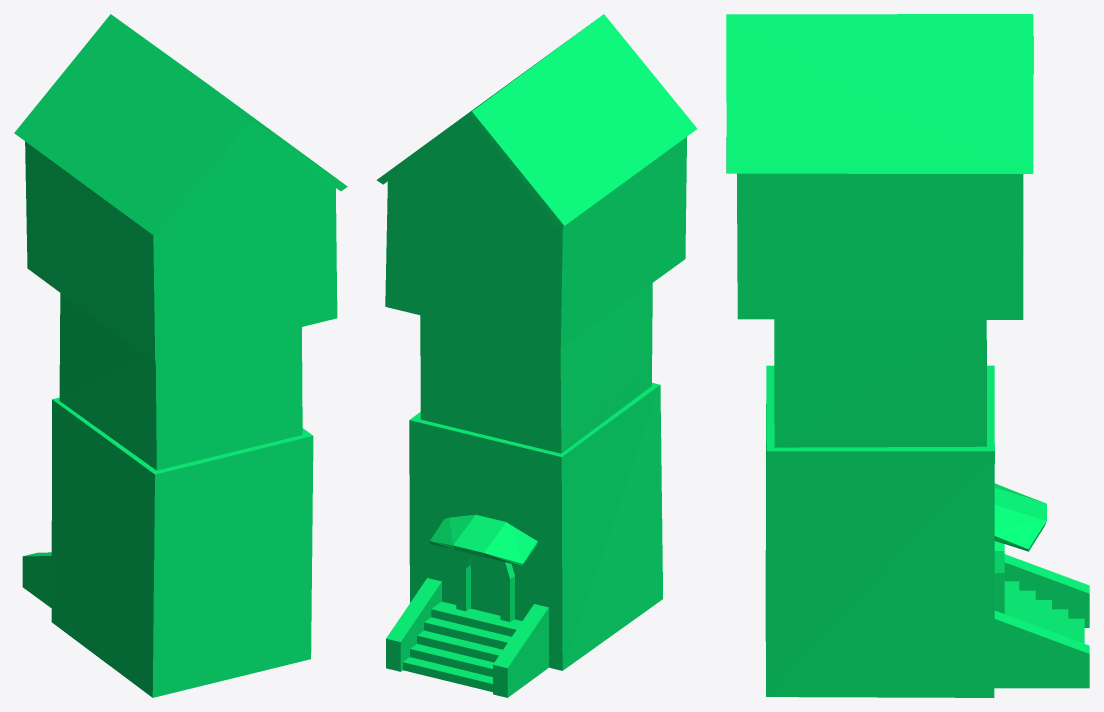
The model's file is Tower_Collision.FBX.
3 views of the same model, side by side, from view 1: azimuth 30°, elevation 25°; view 2: azimuth 150°, elevation 25°; view 3: azimuth 270°, elevation 25° (orthographic). The views are drawn at different scales.
Visible parts, largest first — view 1: Tower_Collision; view 2: Tower_Collision; view 3: Tower_Collision.
Boxes of the visible parts, box(x1,y1,x2,y2) form: Tower_Collision: box(14, 14, 347, 697); Tower_Collision: box(376, 14, 697, 697); Tower_Collision: box(726, 14, 1089, 697).
Bounding box in the file's own units: 10.18 × 28.6 × 14.72.
